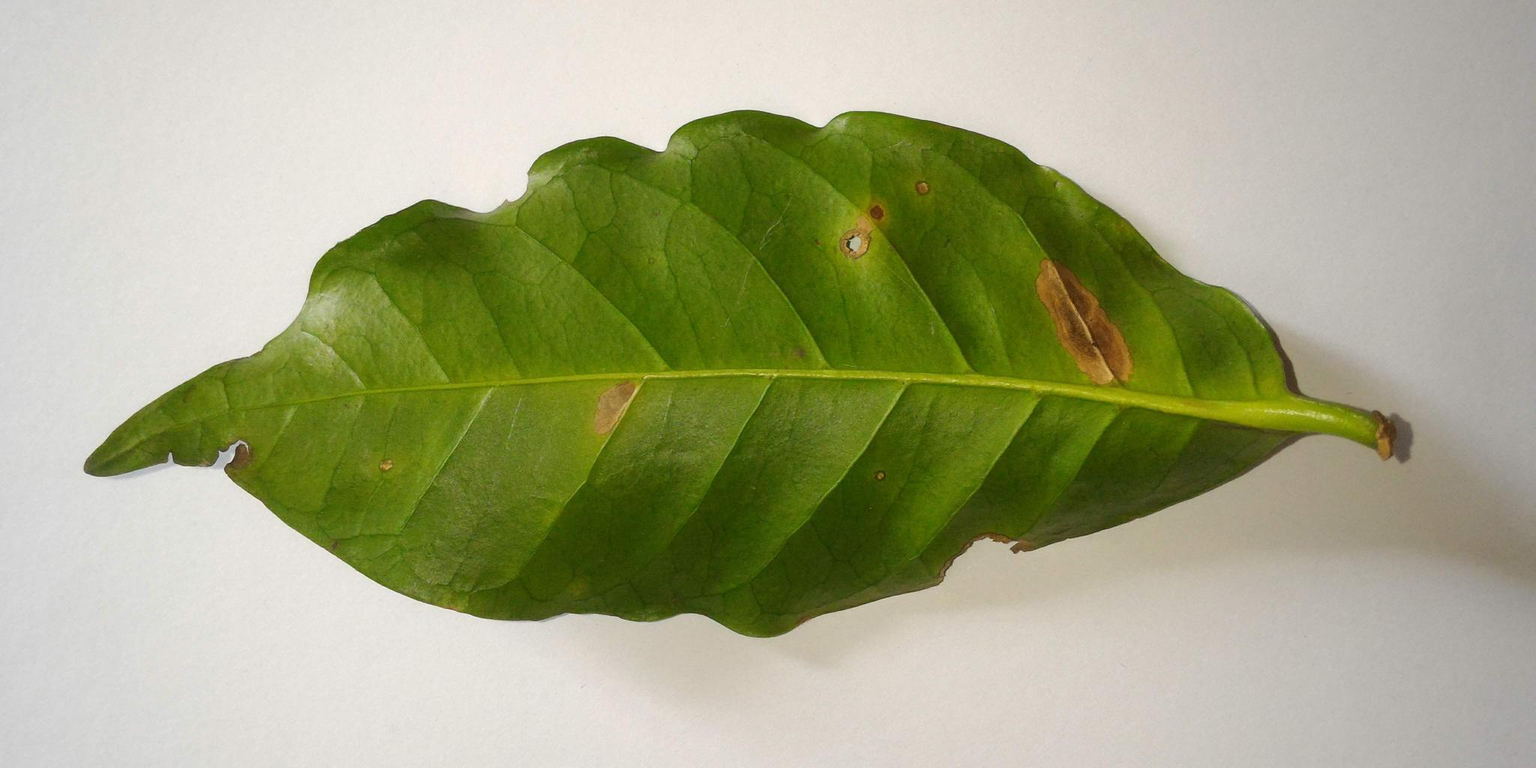Miner: (1026, 246, 1144, 396)
